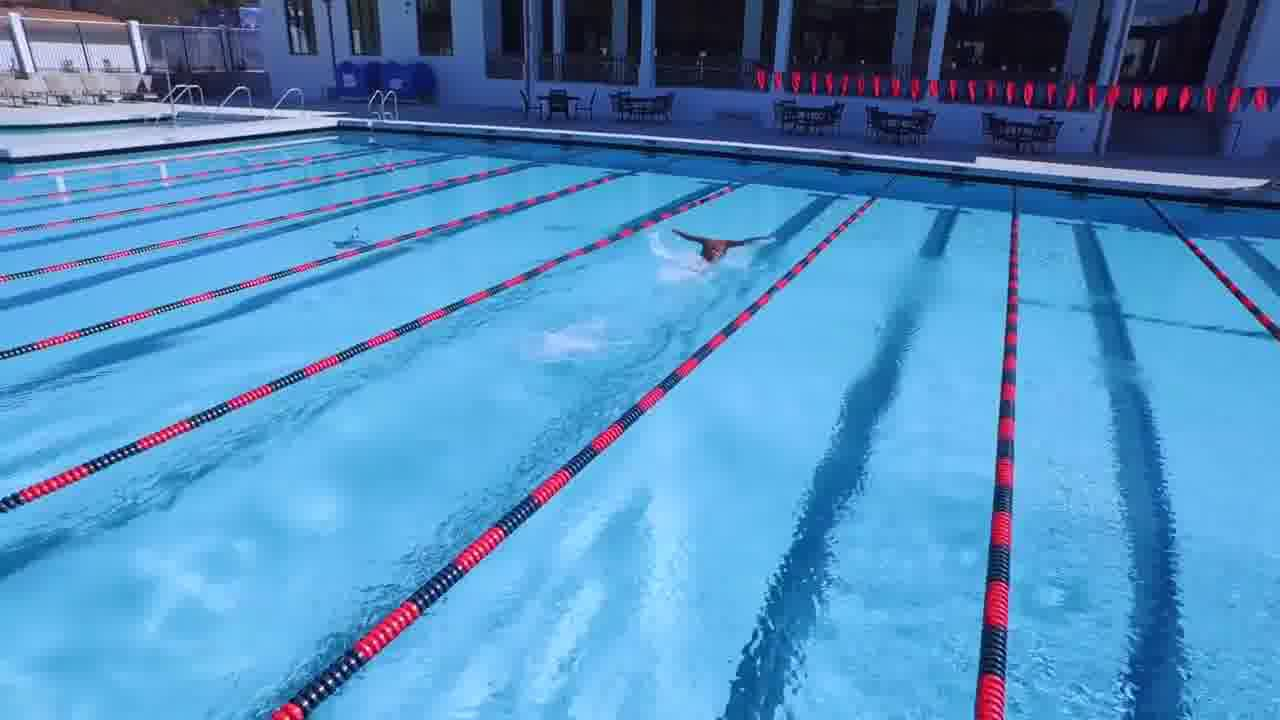swimmer: (668, 223, 760, 267)
